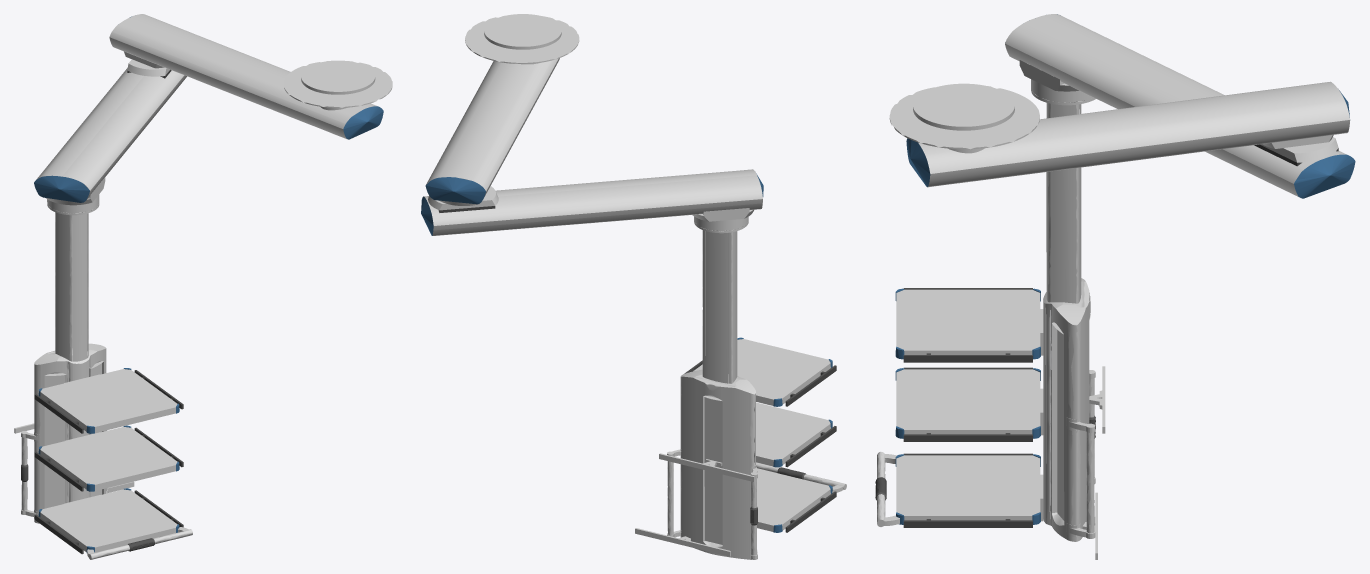
File: Maquet_Ceiling_Pendant_8557 Maquet_Ceiling_Pendant_8557 [285790].fbx
3 renders of one model, left to right at view 1: azimuth 30°, elevation 25°; view 2: azimuth 150°, elevation 25°; view 3: azimuth 270°, elevation 25°, orthographic. The views are drawn at different scales.
Visible parts, largest first — view 1: Maquet_Ceiling_Pendant_8557_Maquet_Ceiling_Pendant_8557__285; view 2: Maquet_Ceiling_Pendant_8557_Maquet_Ceiling_Pendant_8557__285; view 3: Maquet_Ceiling_Pendant_8557_Maquet_Ceiling_Pendant_8557__285.
Part boxes in pixels (x1,y1,x2,y2): Maquet_Ceiling_Pendant_8557_Maquet_Ceiling_Pendant_8557__285: (14, 14, 392, 559); Maquet_Ceiling_Pendant_8557_Maquet_Ceiling_Pendant_8557__285: (421, 14, 846, 559); Maquet_Ceiling_Pendant_8557_Maquet_Ceiling_Pendant_8557__285: (875, 14, 1355, 559).
Bounding box in the file's own units: 177 × 214 × 165.
